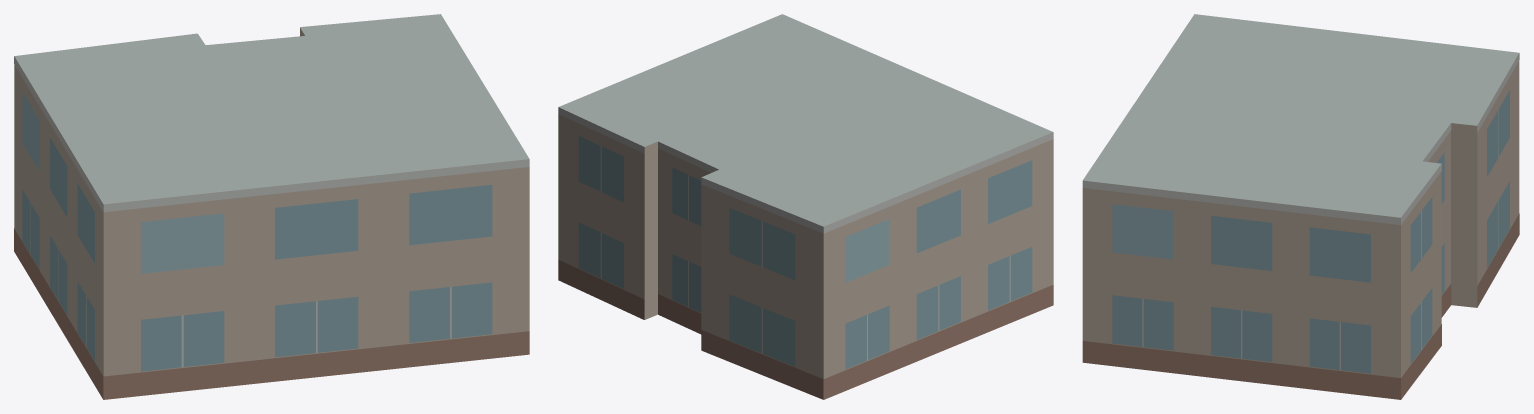
File: survey-upis-32873549.glb
3 renders of one model, left to right at view 1: azimuth 30°, elevation 25°; view 2: azimuth 150°, elevation 25°; view 3: azimuth 270°, elevation 25°, orthographic. The views are drawn at different scales.
Visible parts, largest first — view 1: survey-upis-32873549.tmp; view 2: survey-upis-32873549.tmp; view 3: survey-upis-32873549.tmp.
Boxes of the visible parts, box(x1,y1,x2,y2) form: survey-upis-32873549.tmp: box(14, 14, 529, 399); survey-upis-32873549.tmp: box(558, 14, 1053, 399); survey-upis-32873549.tmp: box(1082, 14, 1519, 399).
Bounding box in the file's own units: 14.65 × 6.1 × 13.27.
